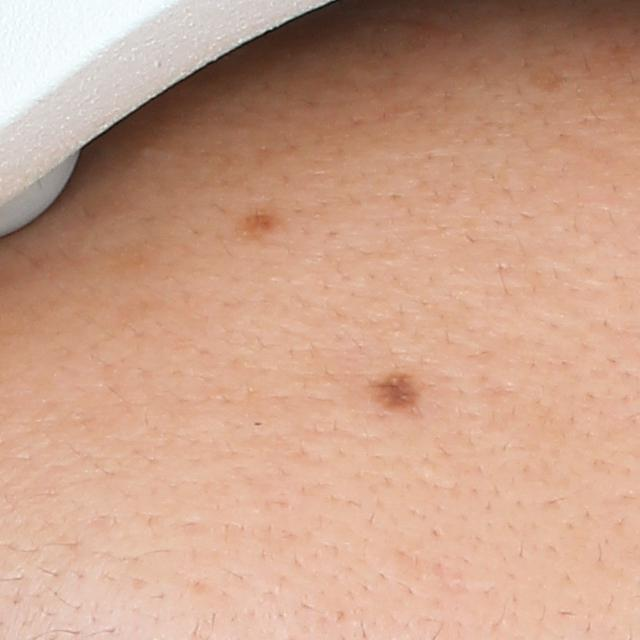nevus: (372, 370, 420, 411), (239, 211, 284, 236)
